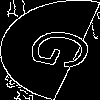G: (25, 25, 100, 77)
